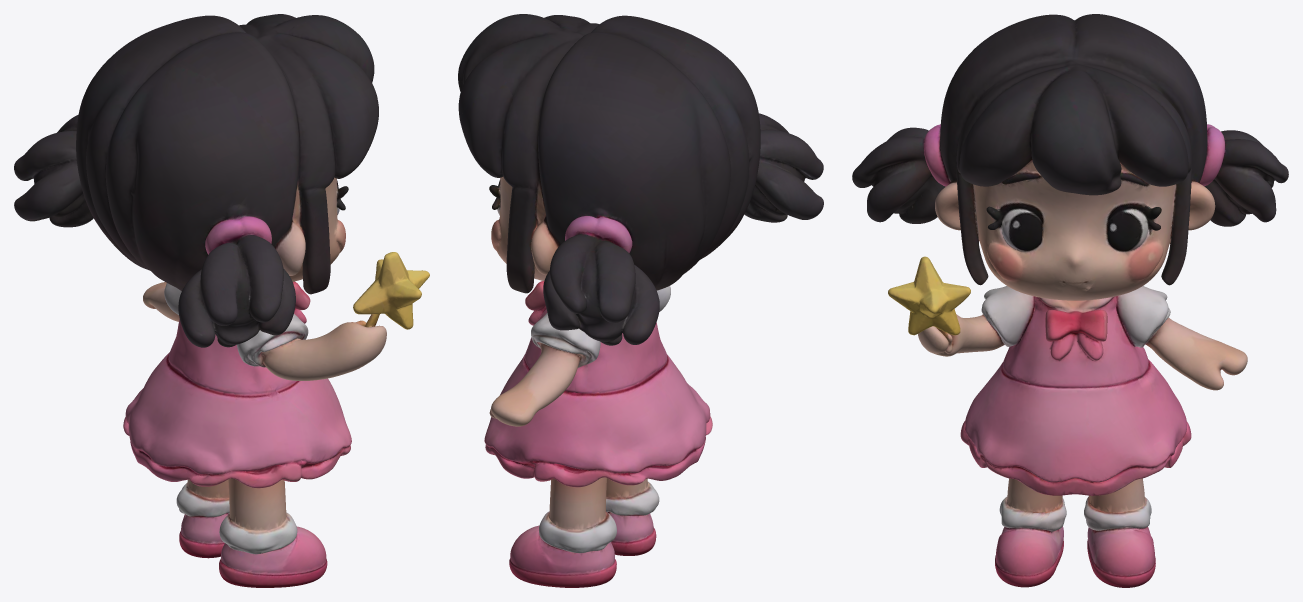
Rendered from character-girl-star.glb.
3 renders of one model, left to right at view 1: azimuth 30°, elevation 25°; view 2: azimuth 150°, elevation 25°; view 3: azimuth 270°, elevation 25°, orthographic. The views are drawn at different scales.
Visible parts, largest first — view 1: tripo_node_2be0b091-98e7-4f31-a47d-c493fac4d34d; view 2: tripo_node_2be0b091-98e7-4f31-a47d-c493fac4d34d; view 3: tripo_node_2be0b091-98e7-4f31-a47d-c493fac4d34d.
Boxes of the visible parts, bbox=[...] form: tripo_node_2be0b091-98e7-4f31-a47d-c493fac4d34d: bbox=[14, 14, 429, 587]; tripo_node_2be0b091-98e7-4f31-a47d-c493fac4d34d: bbox=[458, 14, 823, 587]; tripo_node_2be0b091-98e7-4f31-a47d-c493fac4d34d: bbox=[852, 14, 1288, 587].
Bounding box in the file's own units: 0.5207 × 1 × 0.7518.
1 material, 1 textured.
